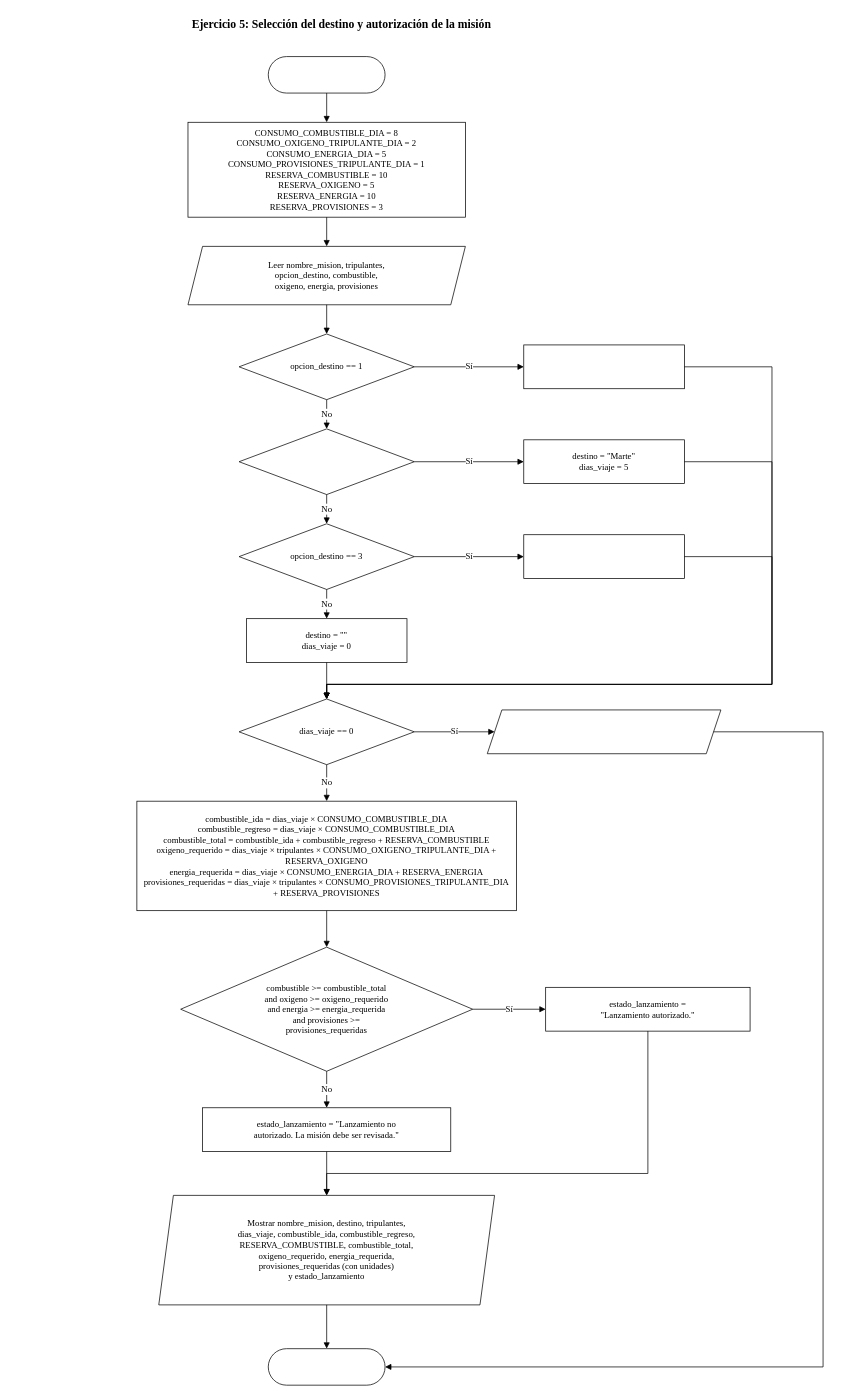
Image size: 842x1398. Some labels were removed from this diagram. The centre of each missing label's shape, as x and y in pixels:
destino = "Europa" dias_viaje = 7: point (603, 556)
destino = "Luna" dias_viaje = 3: point (603, 366)
Fin: point (326, 1366)
Inicio: point (326, 74)
Mostrar "Opción de destino no válida. La misión no puede planificarse.": point (604, 731)
opcion_destino == 2: point (326, 461)
